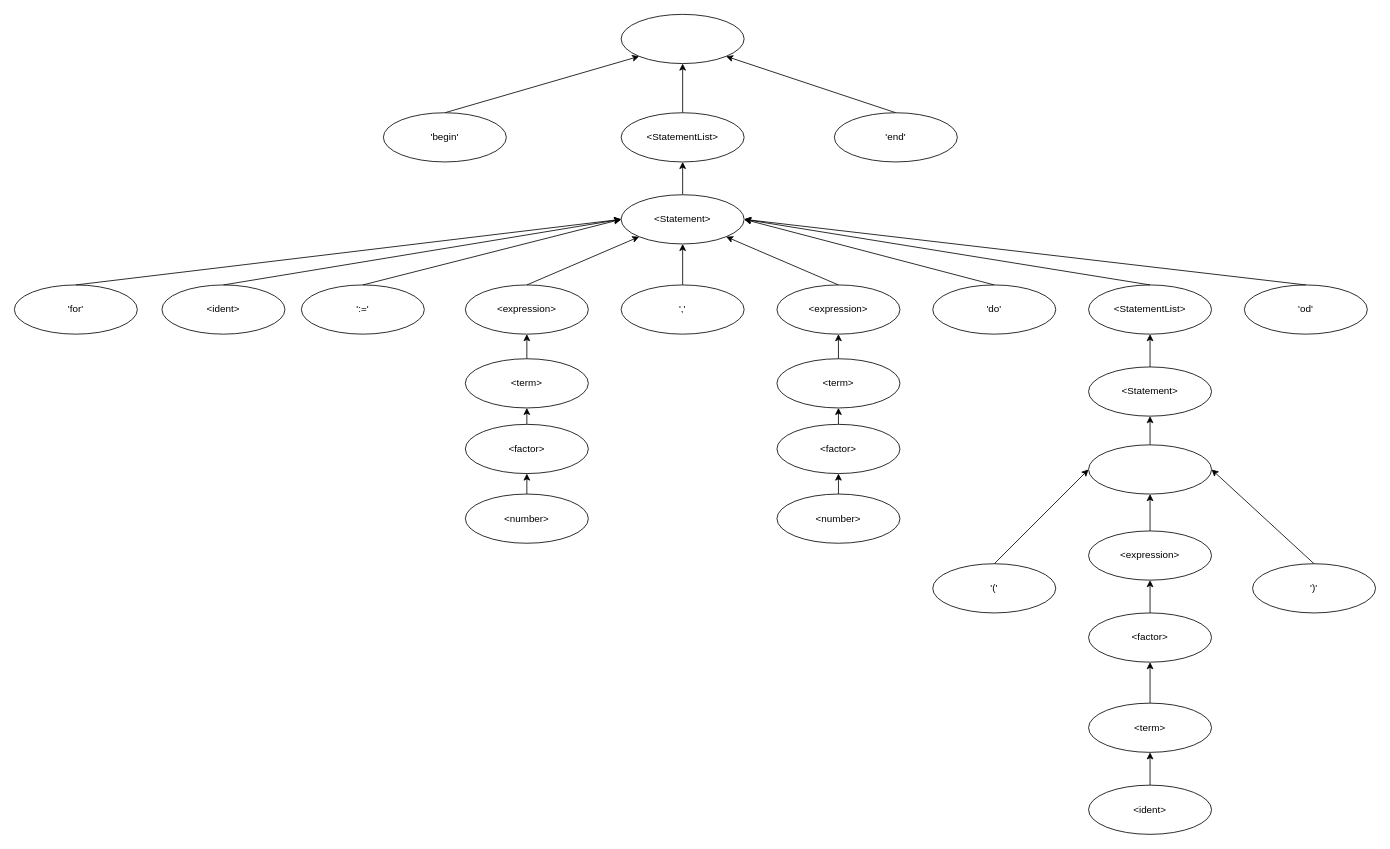
This 1390x849 diagram has some shape labels left out. The centre of each missing label's shape, as x and y in pixels:
"'write'" belongs at [1150,469].
"<Program>" belongs at [682,39].
